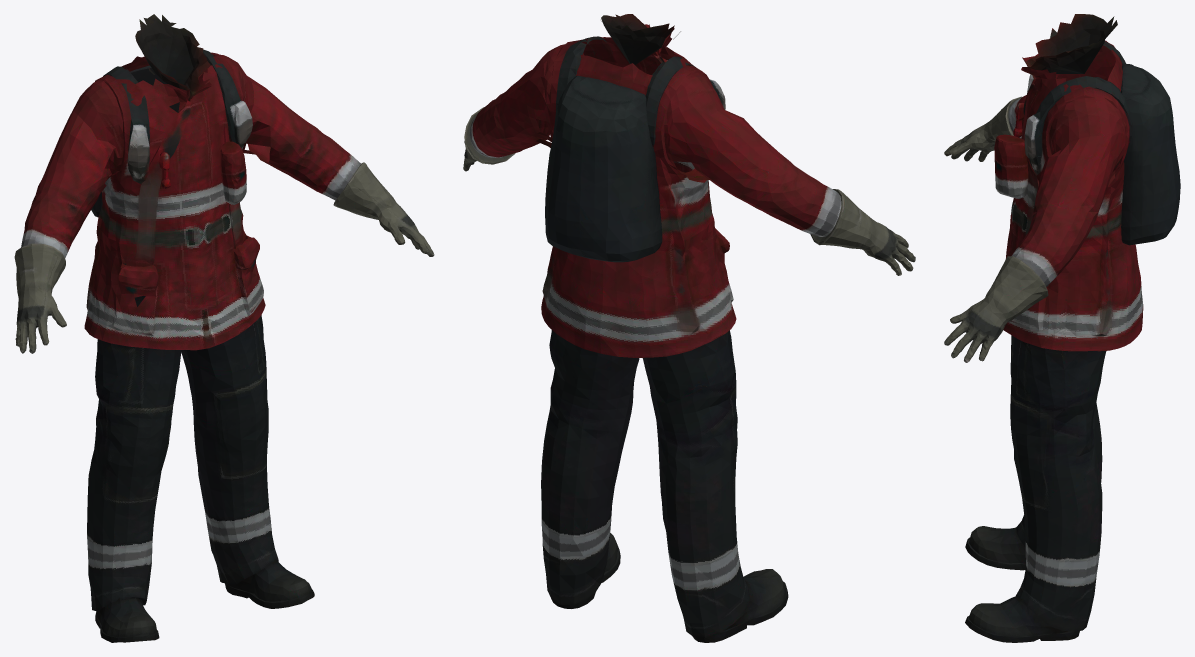
Rendered from ewm_t2firefighter_outfit.glb.
3 views of the same model, side by side, from view 1: azimuth 30°, elevation 25°; view 2: azimuth 150°, elevation 25°; view 3: azimuth 270°, elevation 25° (orthographic). The views are drawn at different scales.
Visible parts, largest first — view 1: ewm_t2firefighter_outfit; view 2: ewm_t2firefighter_outfit; view 3: ewm_t2firefighter_outfit.
Part boxes in pixels (x1,y1,x2,y2): ewm_t2firefighter_outfit: (14,14,434,642); ewm_t2firefighter_outfit: (463,14,915,642); ewm_t2firefighter_outfit: (944,14,1180,642).
Size of the model in its own units: 1.28 by 1.7 by 0.6268.
1 material, 1 textured.
